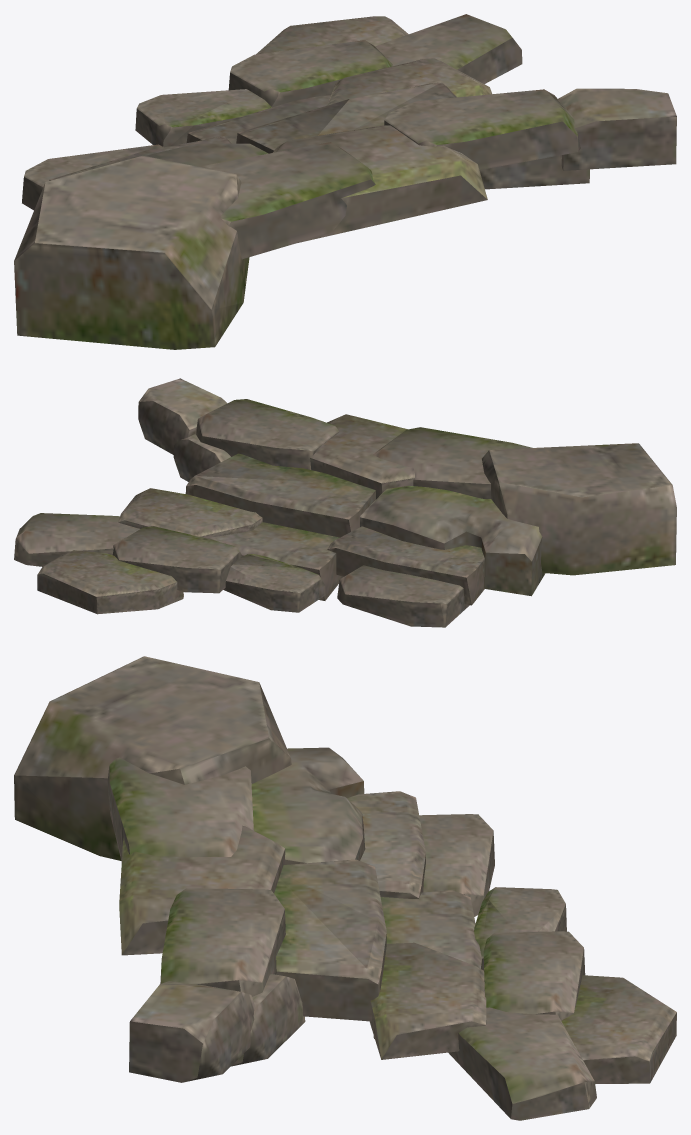
Rendered from xinshoubujian27.FBX.
The picture shows the model from 3 angles, top to bottom: view 1: azimuth 30°, elevation 25°; view 2: azimuth 150°, elevation 25°; view 3: azimuth 270°, elevation 25°; orthographic projection. The views are drawn at different scales.
Visible parts, largest first — view 1: Mesh_0026; view 2: Mesh_0026; view 3: Mesh_0026.
Part boxes in pixels (x1,y1,x2,y2): Mesh_0026: [14, 14, 676, 349]; Mesh_0026: [14, 378, 676, 627]; Mesh_0026: [14, 656, 676, 1120].
Size of the model in its own units: 13.86 by 2.36 by 10.84.
